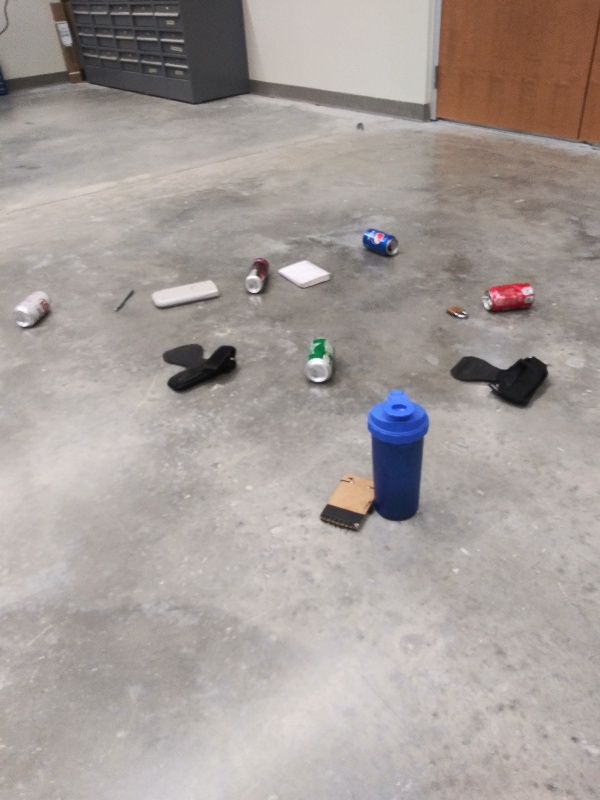can: (475, 278, 540, 322), (9, 287, 57, 331), (302, 335, 341, 384), (353, 221, 400, 261), (239, 252, 273, 301)
